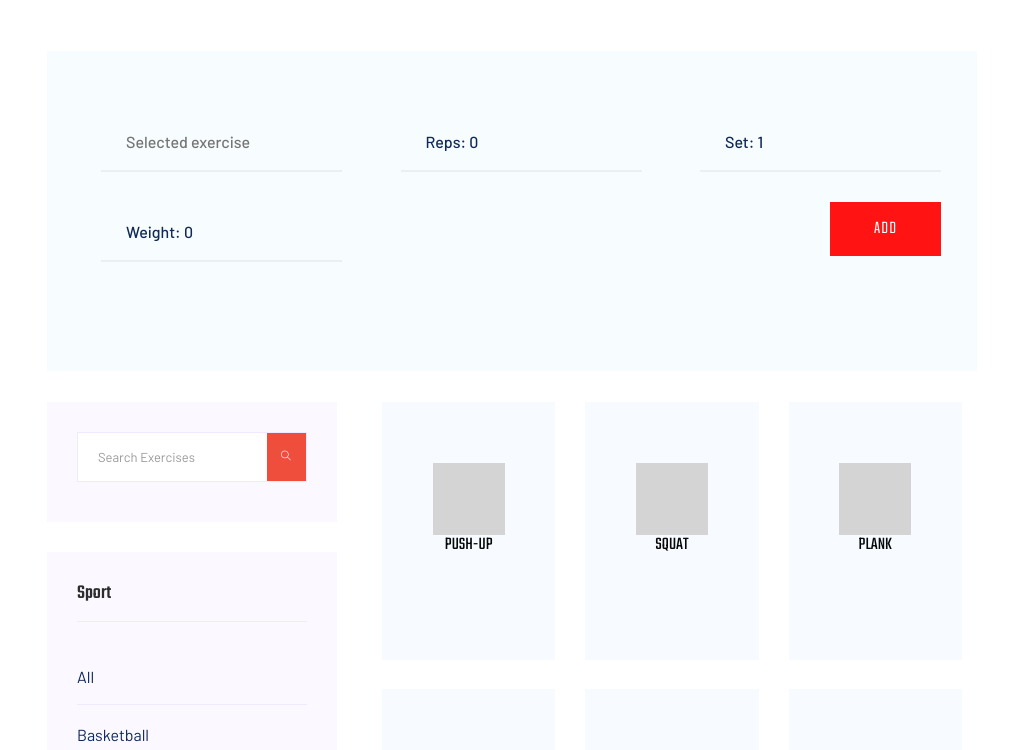
Test case: Tracker Component › should filter exercises by search
Check: the link "Push-Up" is shown, box [445,532,492,558]
Check: the link "Squat" is shown, box [655,532,689,558]
Type "Push" into the field with placeholder "Search Exercises" at (172, 457), box [77,432,267,482]
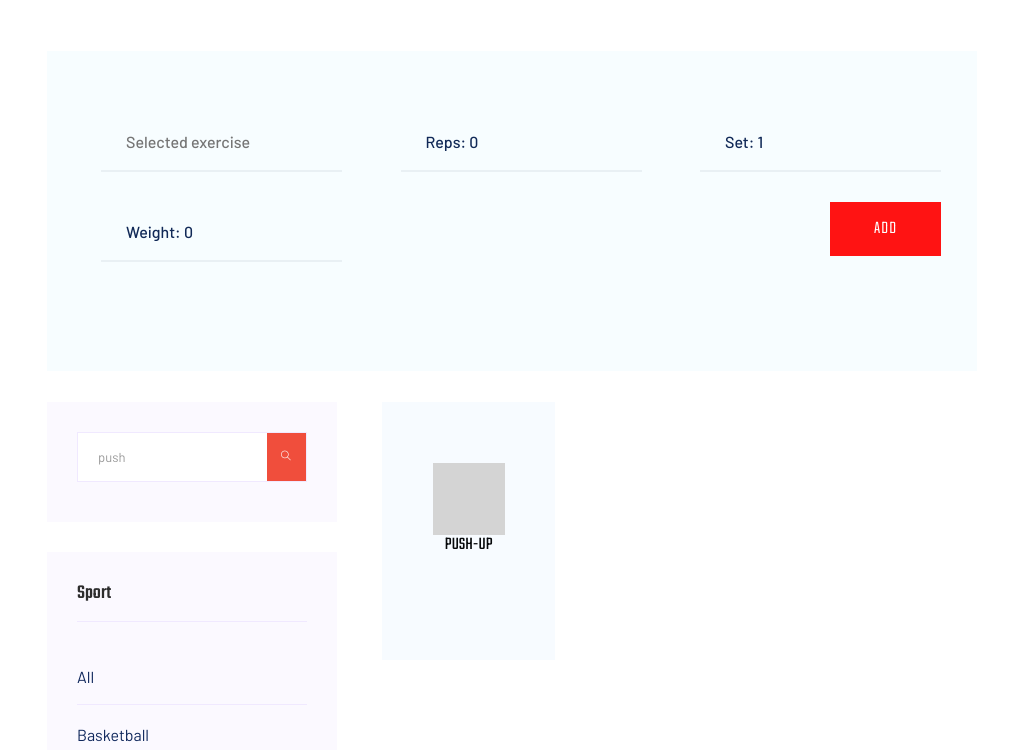
Check: the link "Push-Up" is shown, box [445,532,492,558]
Check: the link "Squat" is gone
Check: the link "Plank" is gone
